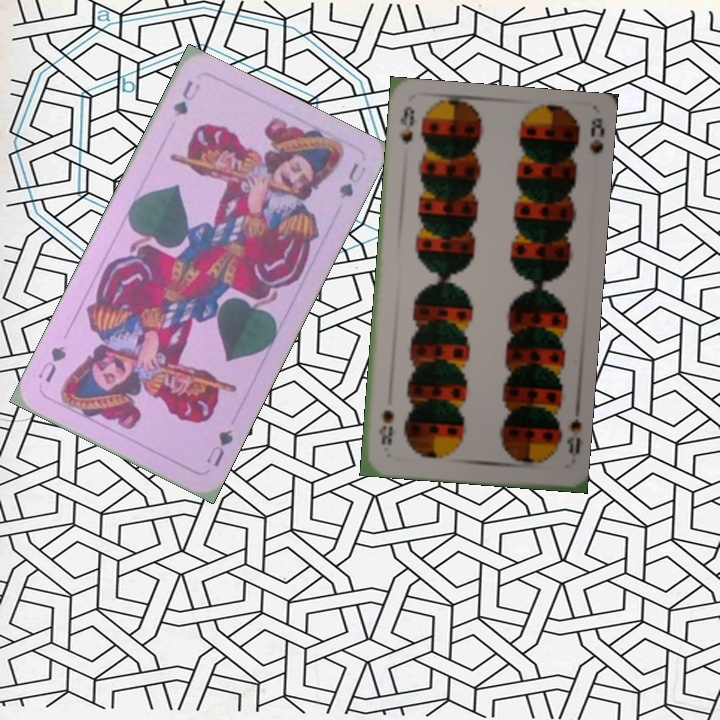GU: (202, 425, 236, 469), (169, 76, 203, 120)
S8: (395, 102, 419, 146), (562, 415, 584, 456)
